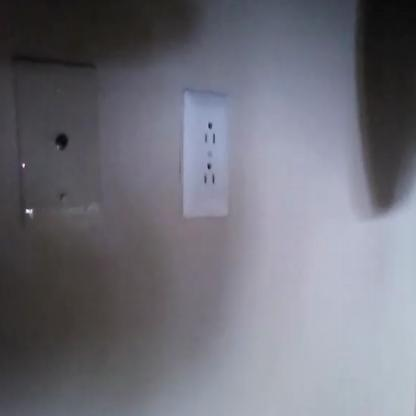OUTLET: (182, 90, 228, 220)
